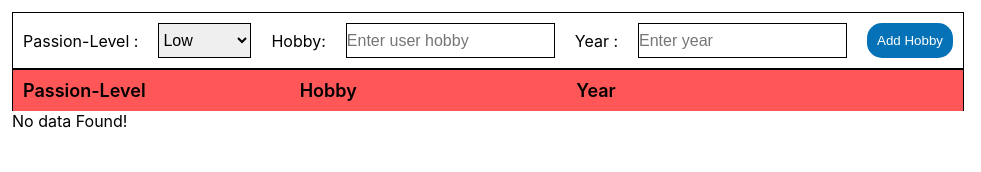
Test: Testing Add Hobby Component › should display error on empty Hobby field
The image size is (981, 172).
Click the button with class "addHobbybutton".
click(910, 40)  # box [867, 23, 953, 58]
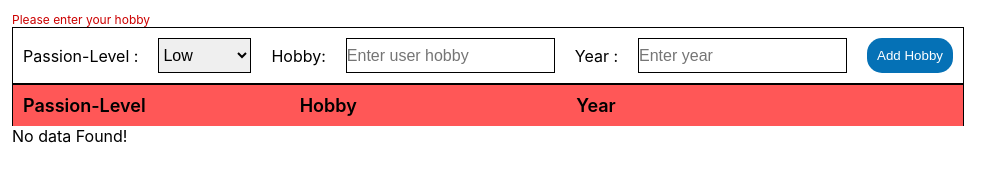
Check: the text with class "errorDiv" reads "Please enter your hobby", box [12, 12, 150, 27]
